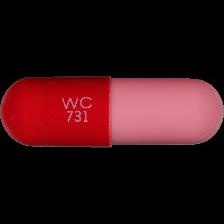35356-985: (0, 0, 224, 224)
